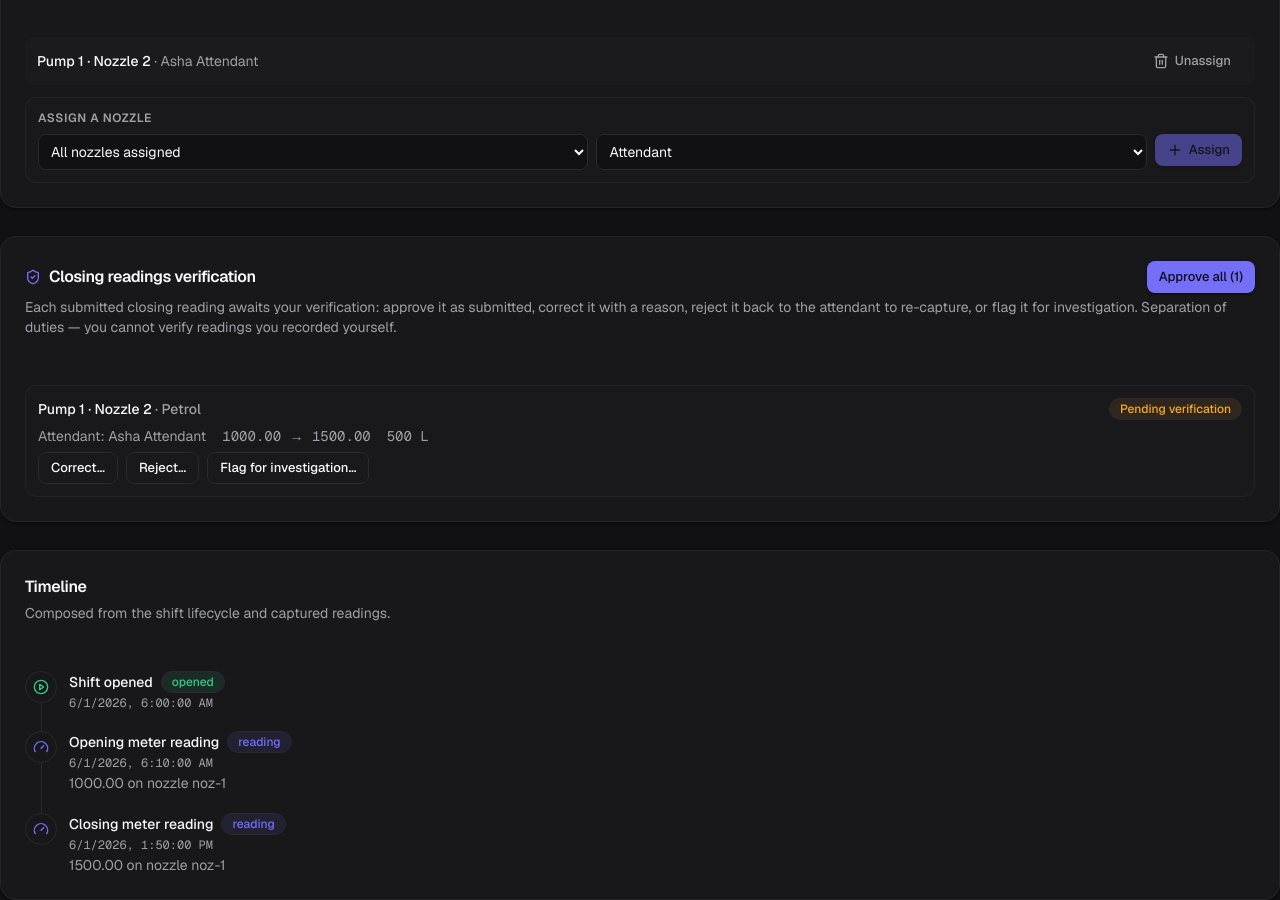
ShiftReviewPage › surfaces the separation-of-duties 403 from reject cleanly
(page scrolled)
Click the button "Reject…" at (163, 468), box 126,452 -> 199,484
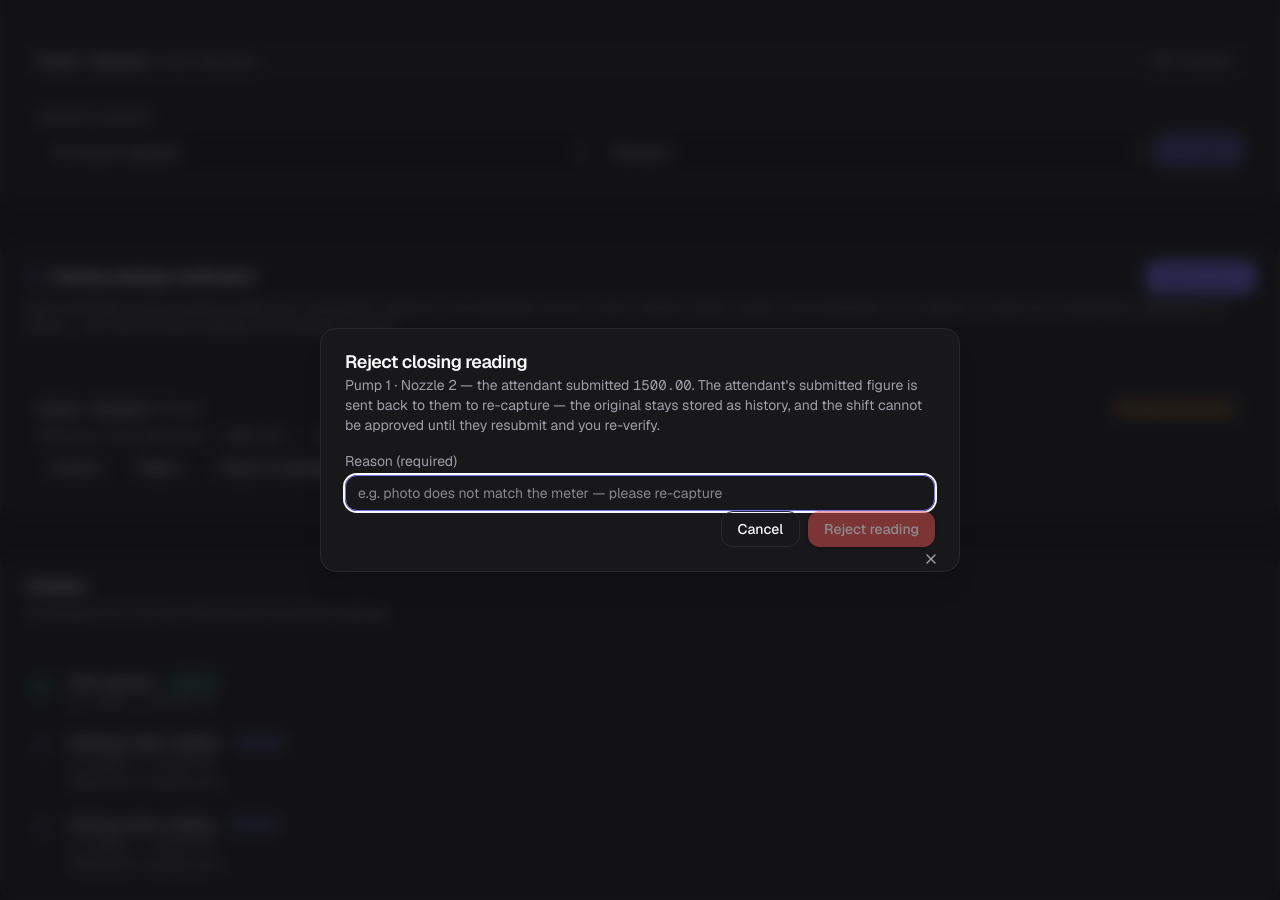
Type "mismatch" into the field named "Rejection reason" at (640, 493), box 345,475 -> 935,511
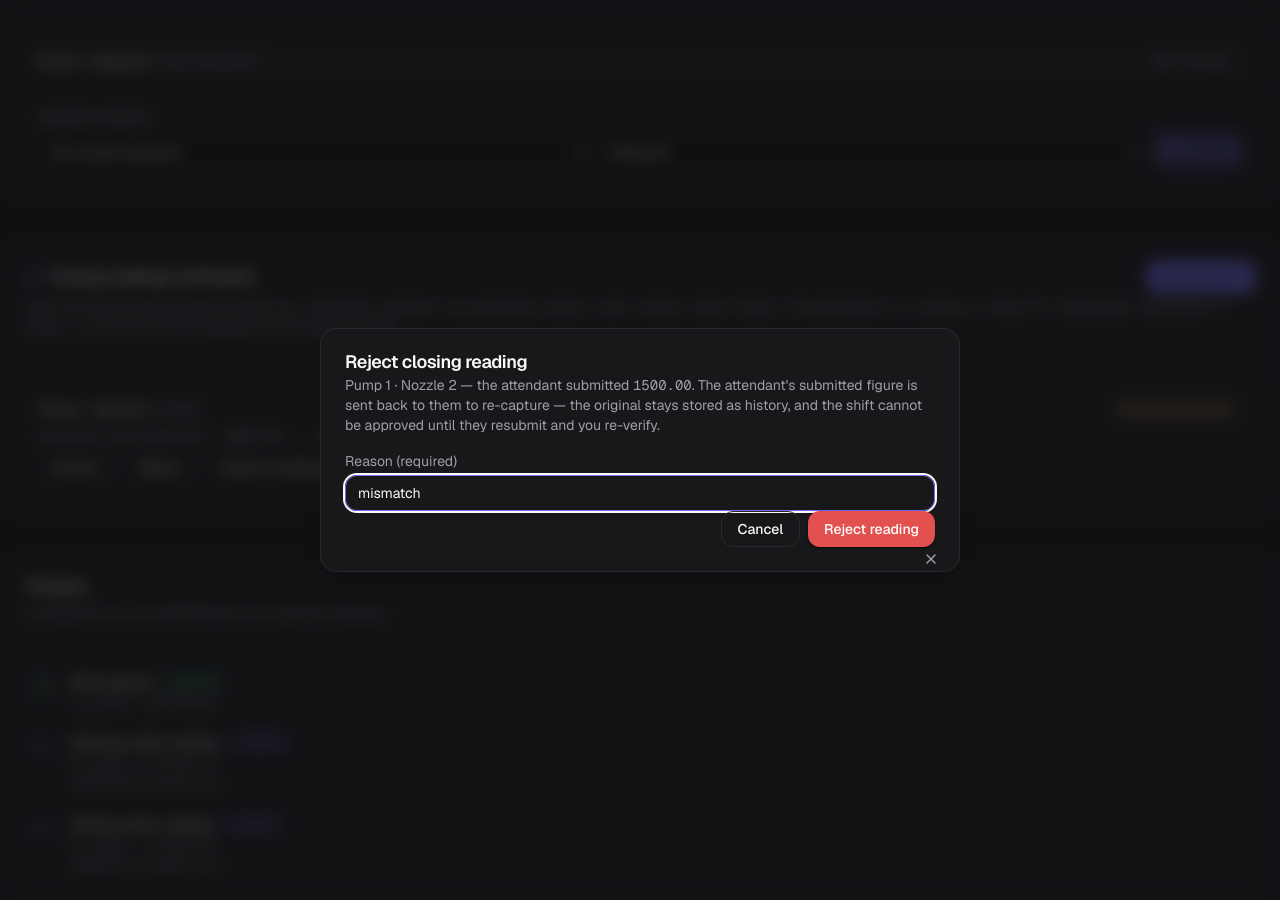
Click the button "Reject reading" at (872, 529), box 808,511 -> 935,547
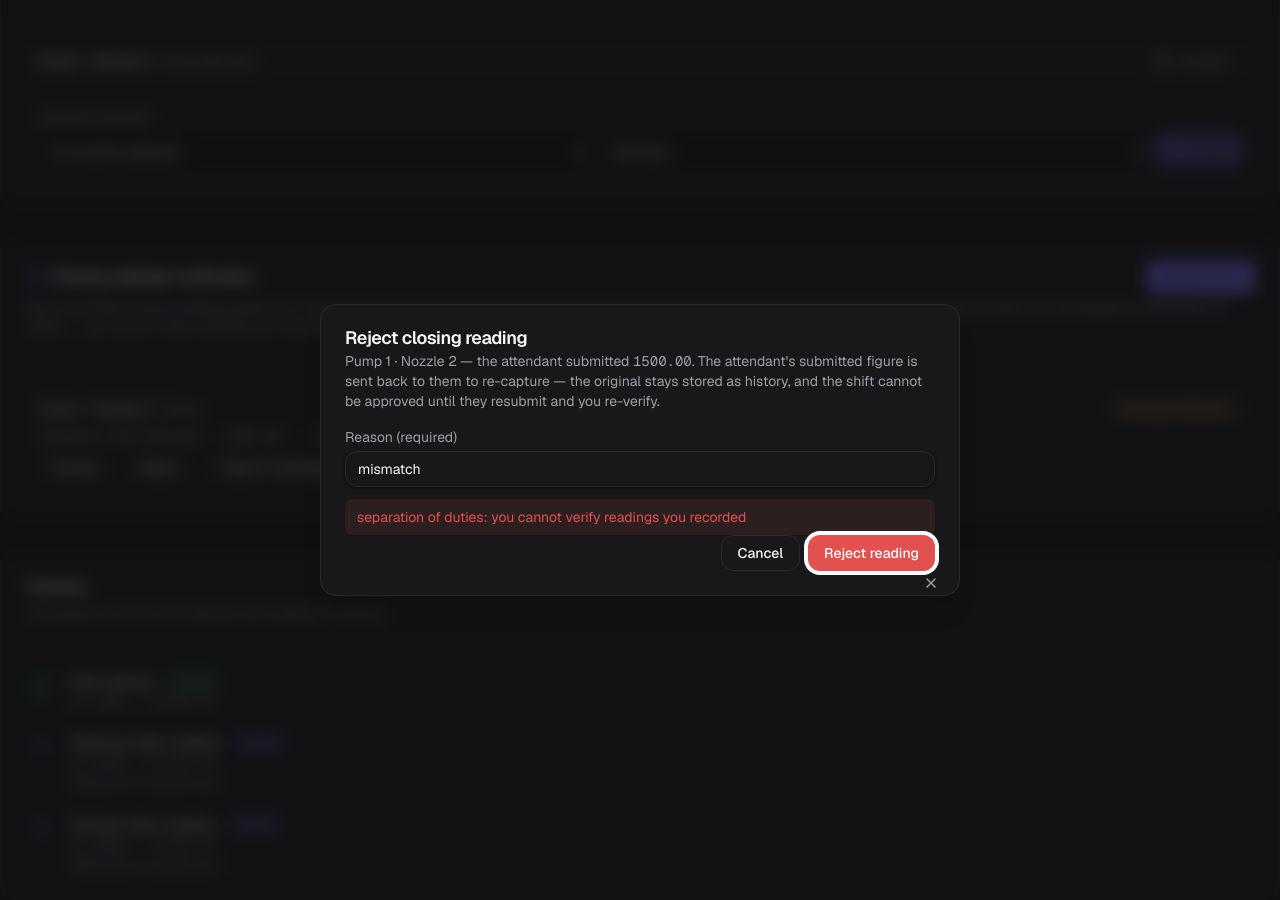
Result: the text "separation of duties: you cannot verify readings you recorded" is shown at 345,499 -> 935,535
